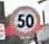limite 50: (11, 5, 39, 36)
